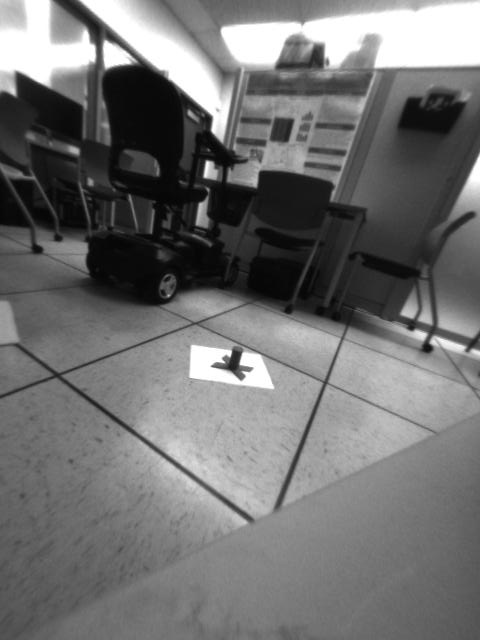X: (208, 345, 256, 380)
